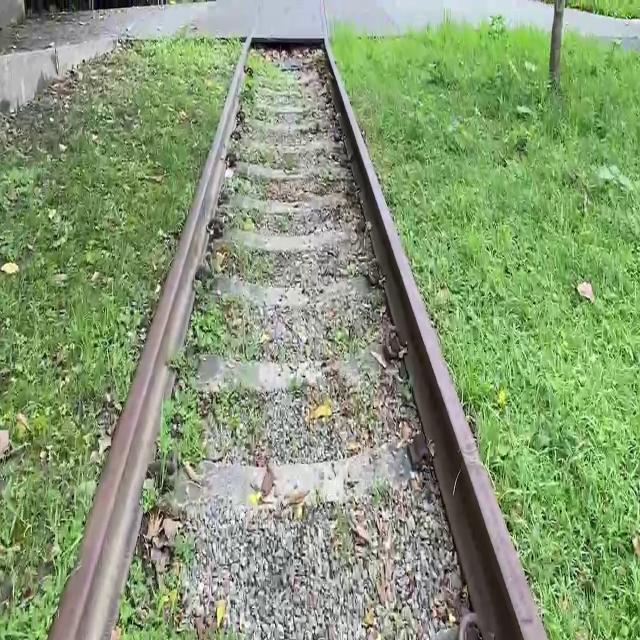rail-track: (146, 46, 470, 640)
